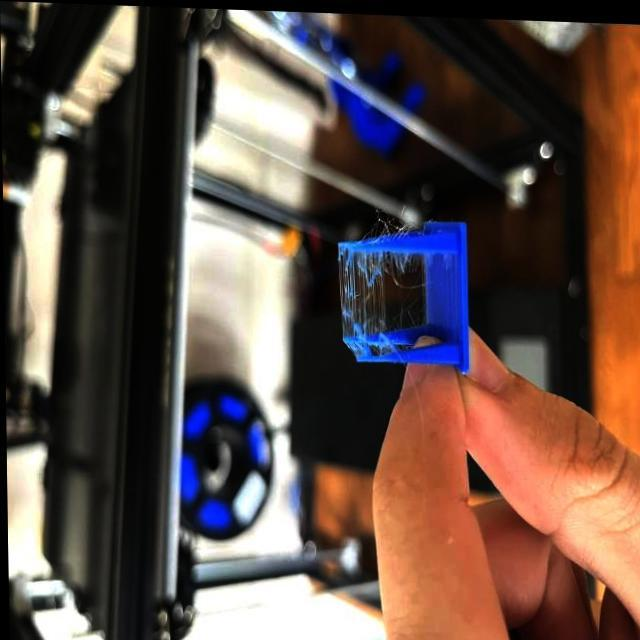stringing: (335, 250, 384, 334), (374, 249, 414, 280), (371, 210, 408, 233)
